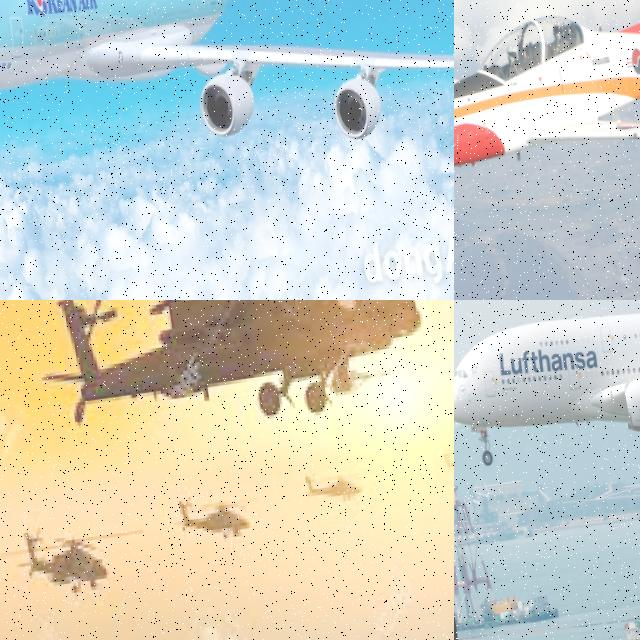A380: (0, 0, 454, 195), (454, 300, 640, 489)
Apache: (0, 300, 454, 459), (2, 506, 156, 608), (169, 487, 262, 552), (301, 459, 366, 510), (438, 441, 454, 488)
KT-1: (454, 0, 640, 183)
